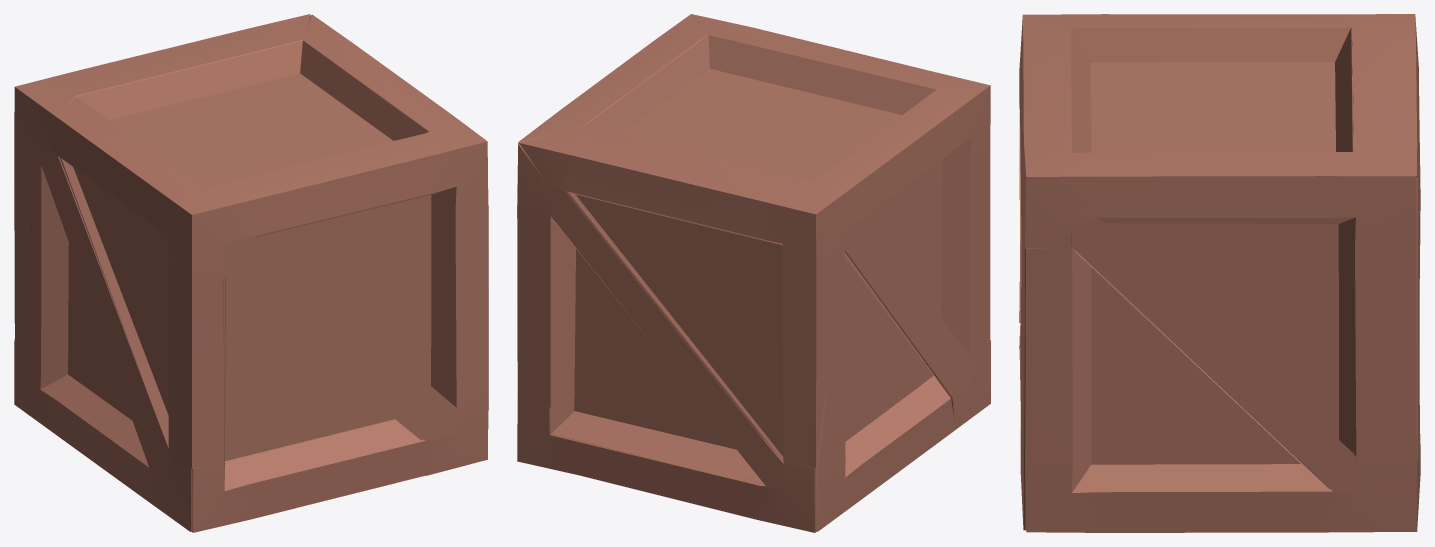
File: BreakableCrate.fbx
3 renders of one model, left to right at view 1: azimuth 30°, elevation 25°; view 2: azimuth 150°, elevation 25°; view 3: azimuth 270°, elevation 25°, orthographic. The views are drawn at different scales.
Parts seen in each view (by area): view 1: Boxshard2, Boxshard5, Boxshard3, Boxshard1, Boxshard6; view 2: Boxshard1, Boxshard2, Boxshard3, Boxshard4, Boxshard5, Boxshard6; view 3: Boxshard4, Boxshard6, Boxshard2, Boxshard1, Boxshard5, Boxshard3.
Boxes of the visible parts, bbox=[...] form: Boxshard2: bbox=[14, 41, 428, 505]; Boxshard5: bbox=[168, 131, 488, 474]; Boxshard3: bbox=[66, 276, 426, 532]; Boxshard1: bbox=[14, 14, 310, 531]; Boxshard6: bbox=[303, 14, 486, 141]; Boxshard1: bbox=[519, 126, 990, 485]; Boxshard2: bbox=[585, 35, 990, 531]; Boxshard3: bbox=[518, 144, 816, 532]; Boxshard4: bbox=[517, 206, 765, 487]; Boxshard5: bbox=[691, 14, 990, 357]; Boxshard6: bbox=[517, 14, 707, 206]; Boxshard4: bbox=[1026, 218, 1420, 532]; Boxshard6: bbox=[1026, 152, 1415, 488]; Boxshard2: bbox=[1019, 14, 1353, 152]; Boxshard1: bbox=[1320, 14, 1420, 195]; Boxshard5: bbox=[1019, 47, 1071, 530]; Boxshard3: bbox=[1019, 177, 1420, 458].
Size of the model in its own units: 131 by 134 by 135.
